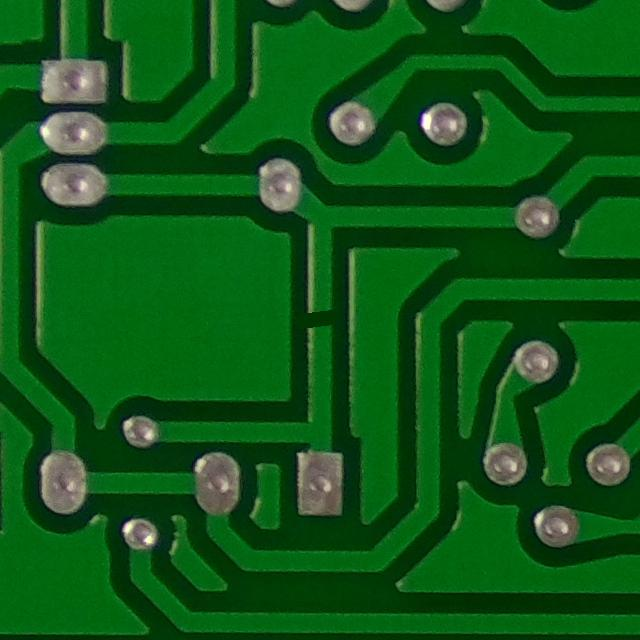open_circuit: (298, 298, 343, 342)
